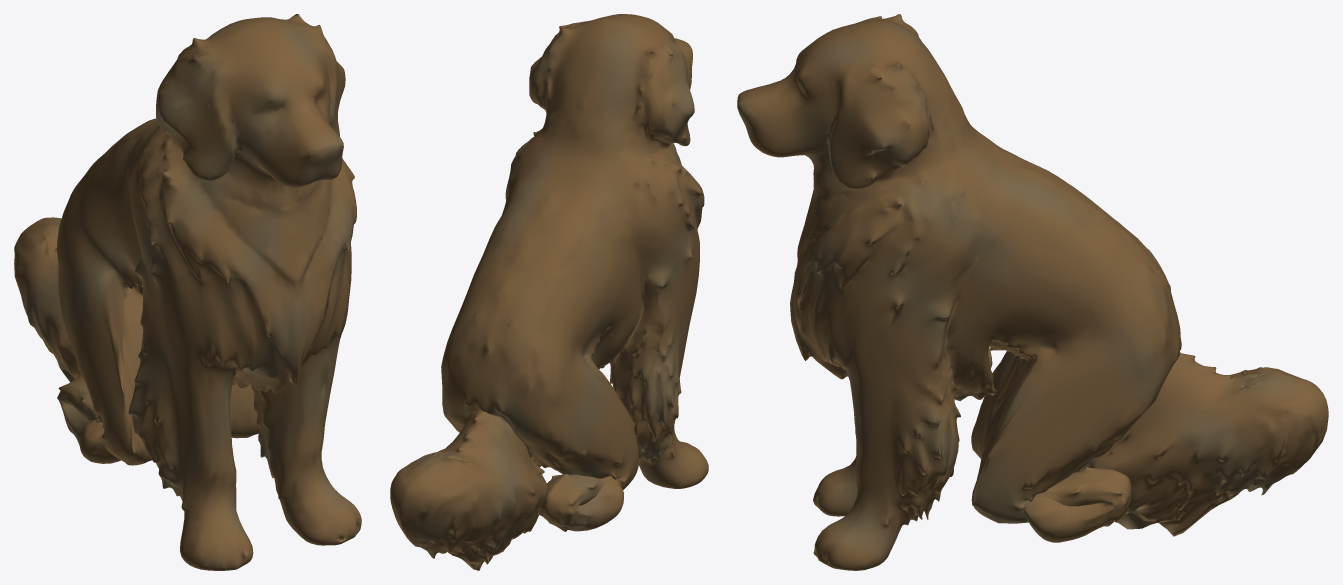
Rendered from kyoto-bronze.glb.
3 views of the same model, side by side, from view 1: azimuth 30°, elevation 25°; view 2: azimuth 150°, elevation 25°; view 3: azimuth 270°, elevation 25° (orthographic). The views are drawn at different scales.
Visible parts, largest first — view 1: Kyoto_cast_bronze_static; view 2: Kyoto_cast_bronze_static; view 3: Kyoto_cast_bronze_static.
Part boxes in pixels (bbox=[...]): Kyoto_cast_bronze_static: bbox=[14, 14, 361, 570]; Kyoto_cast_bronze_static: bbox=[390, 14, 708, 570]; Kyoto_cast_bronze_static: bbox=[737, 14, 1328, 570].
Size of the model in its own units: 1.02 by 2.56 by 2.71.
